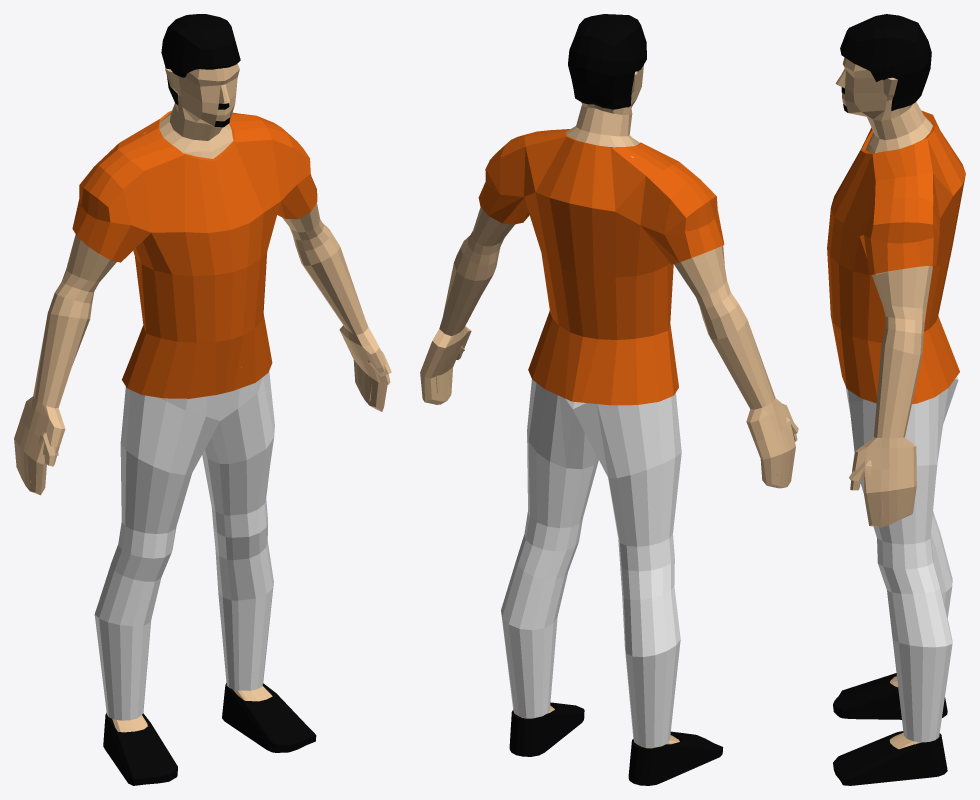
The model's file is man.fbx.
3 views of the same model, side by side, from view 1: azimuth 30°, elevation 25°; view 2: azimuth 150°, elevation 25°; view 3: azimuth 270°, elevation 25° (orthographic).
Parts seen in each view (by area): view 1: tshirt_man10, pants_man10, body_man10, shoes_man10, hair_man10; view 2: tshirt_man10, pants_man10, body_man10, hair_man10, shoes_man10; view 3: tshirt_man10, pants_man10, body_man10, shoes_man10, hair_man10.
Boxes of the visible parts, x1,y1,x2,y2 form: tshirt_man10: (72,110,317,398); pants_man10: (94,367,274,720); body_man10: (14,63,391,732); shoes_man10: (103,683,316,785); hair_man10: (161,14,240,104); tshirt_man10: (478,129,724,405); pants_man10: (501,379,681,747); body_man10: (420,65,798,748); hair_man10: (568,14,646,109); shoes_man10: (509,702,723,785); tshirt_man10: (827,110,965,403); pants_man10: (845,377,958,742); body_man10: (835,57,932,749); shoes_man10: (833,673,947,785); hair_man10: (840,14,931,110).
Size of the model in its own units: 102 by 199 by 34.8.
